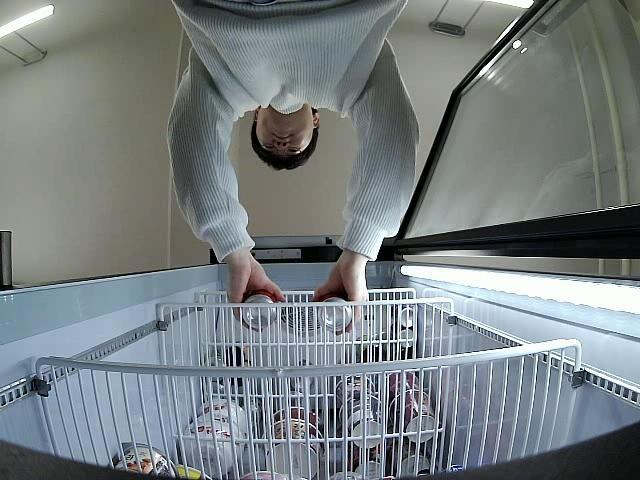11_cocaColaZero: (242, 287, 278, 328), (320, 292, 350, 331)
